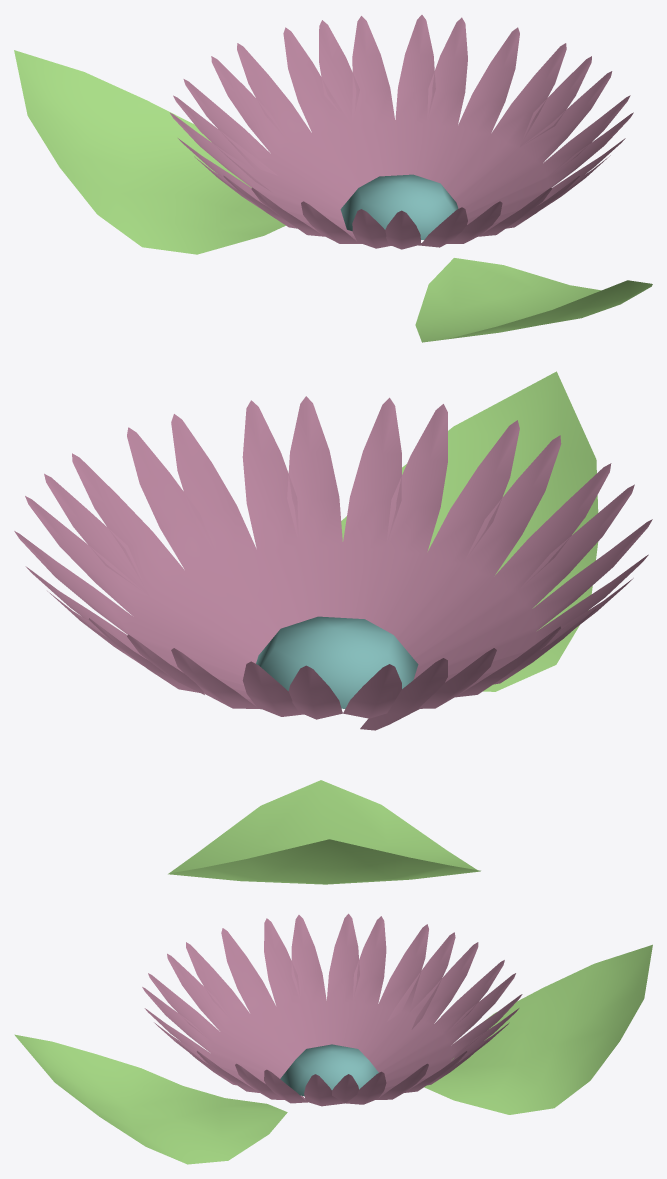
Rendered from SM_Flower02.fbx.
3 views of the same model, one above another, from view 1: azimuth 30°, elevation 25°; view 2: azimuth 150°, elevation 25°; view 3: azimuth 270°, elevation 25° (orthographic). The views are drawn at different scales.
Visible parts, largest first — view 1: SM_Flower02; view 2: SM_Flower02; view 3: SM_Flower02.
Part boxes in pixels (x1,y1,x2,y2): SM_Flower02: [14, 15, 652, 342]; SM_Flower02: [14, 371, 652, 884]; SM_Flower02: [14, 913, 652, 1164].
Size of the model in its own units: 27.98 by 9.81 by 45.46.
